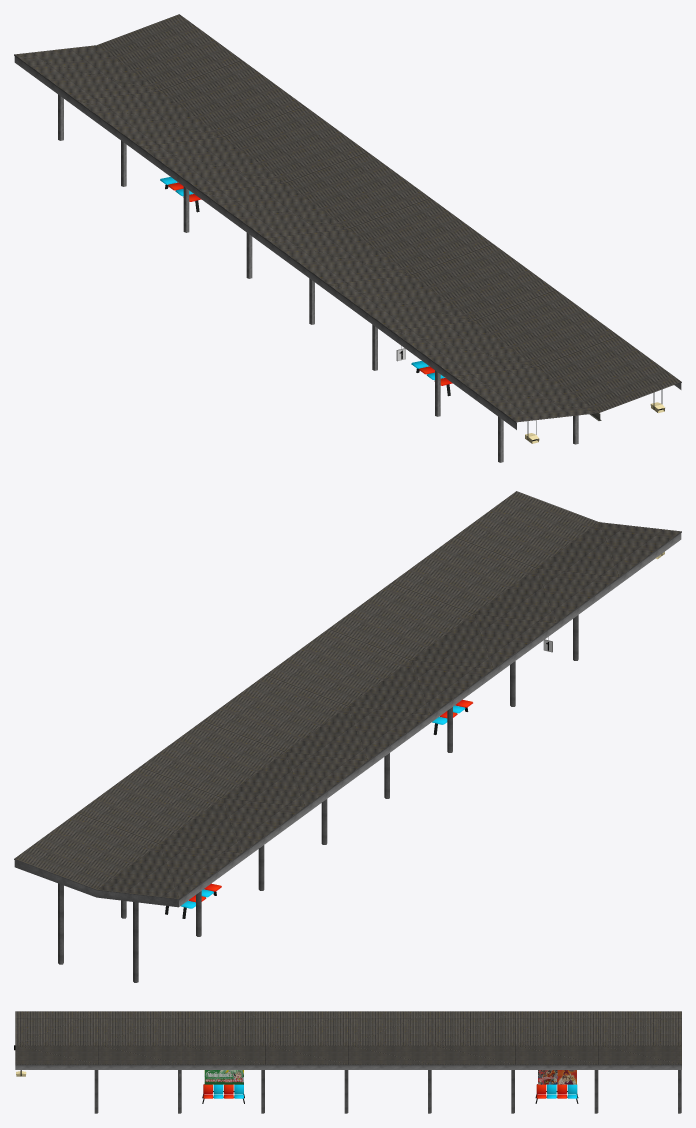
Rendered from AMB_HOME_YANE1_CENTER.glb.
3 renders of one model, top to bottom at view 1: azimuth 30°, elevation 25°; view 2: azimuth 150°, elevation 25°; view 3: azimuth 270°, elevation 25°, orthographic. The views are drawn at different scales.
Visible parts, largest first — view 1: Mesh1; view 2: Mesh1; view 3: Mesh1, obj22, obj24.
Boxes of the visible parts, left/top/right/bottom form: Mesh1: left=14, top=14, right=681, bottom=462; Mesh1: left=14, top=491, right=681, bottom=982; Mesh1: left=14, top=1011, right=681, bottom=1113; obj22: left=202, top=1070, right=244, bottom=1103; obj24: left=535, top=1070, right=578, bottom=1103.
Size of the model in its own units: 19.01 by 10.42 by 100.
24 materials, 23 textured.
